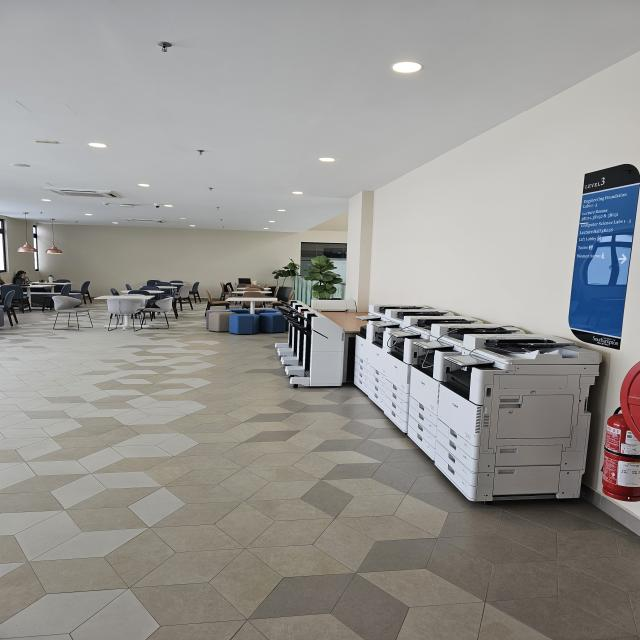footpath: (8, 340, 278, 640)
obstacle: (278, 298, 640, 532), (50, 289, 177, 327), (205, 292, 275, 339)
